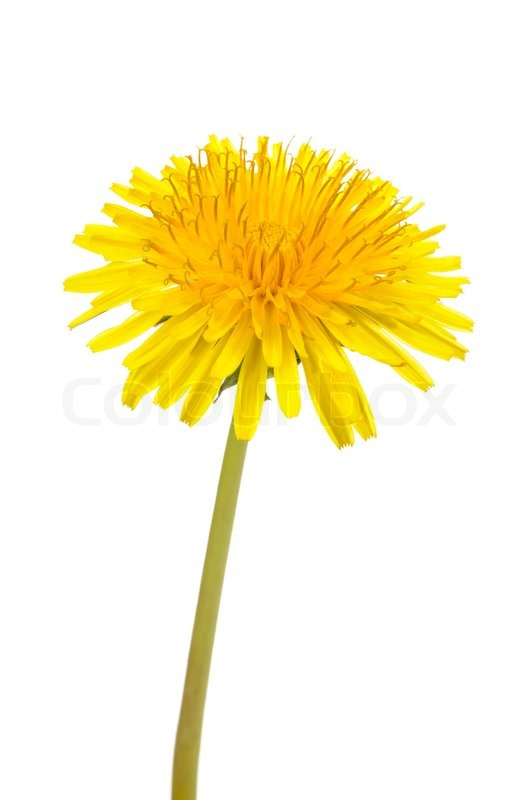dandelion: (65, 145, 493, 453)
